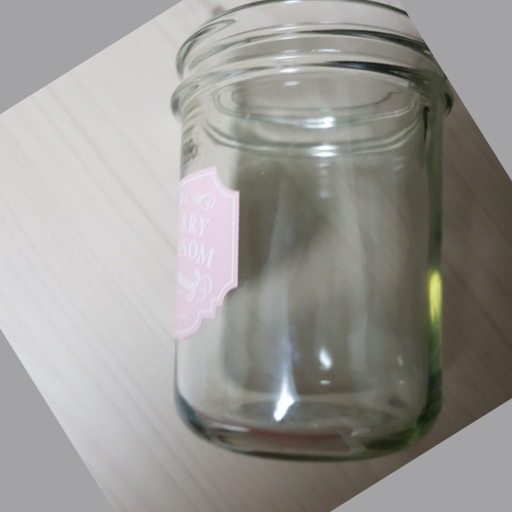Glass_5: (169, 1, 449, 457)
